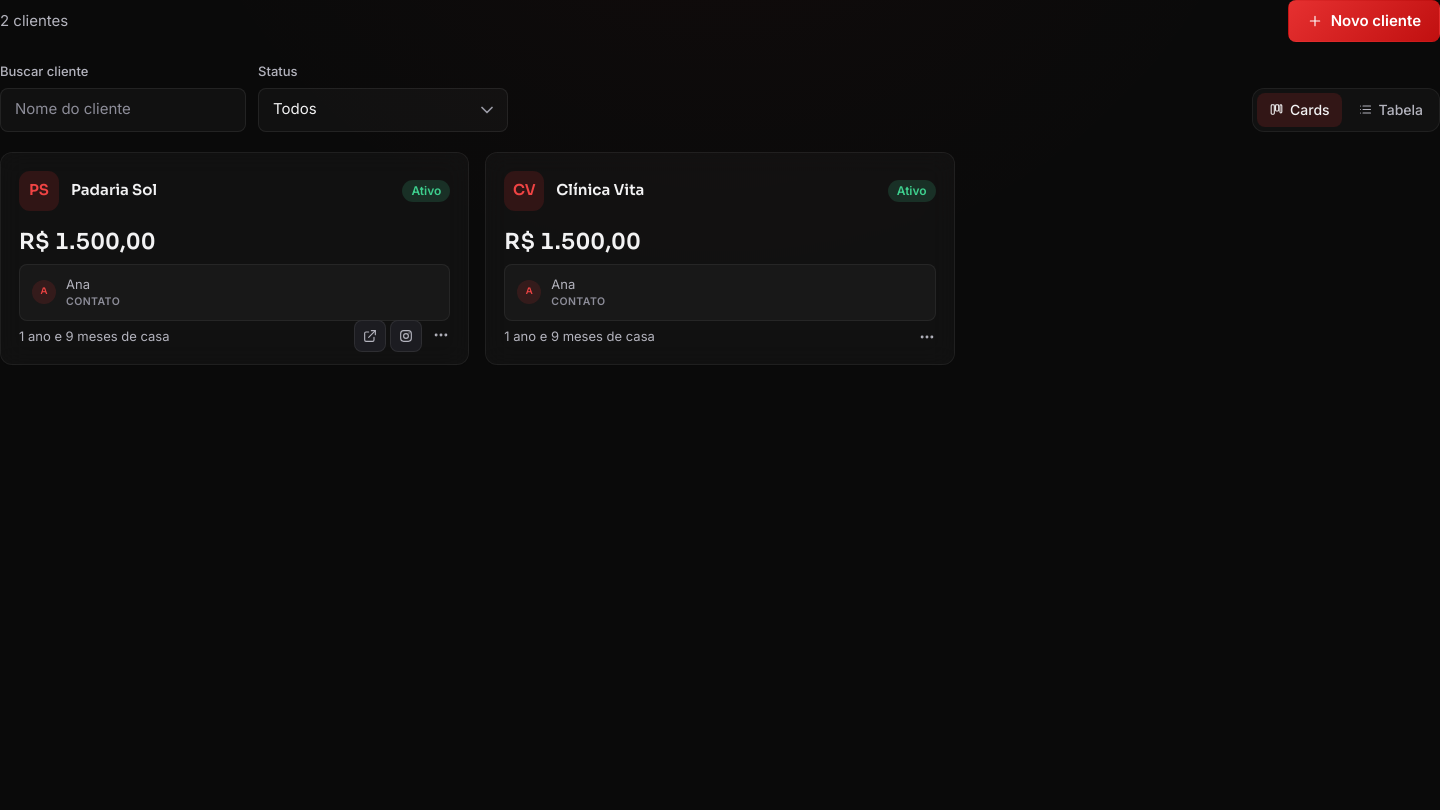
Test: ClientesPage › ações rápidas do card: editar e abrir os canais que o cliente tem
Click the button named "Ações de Padaria Sol". click: (441,335)
box: [426, 320, 456, 350]
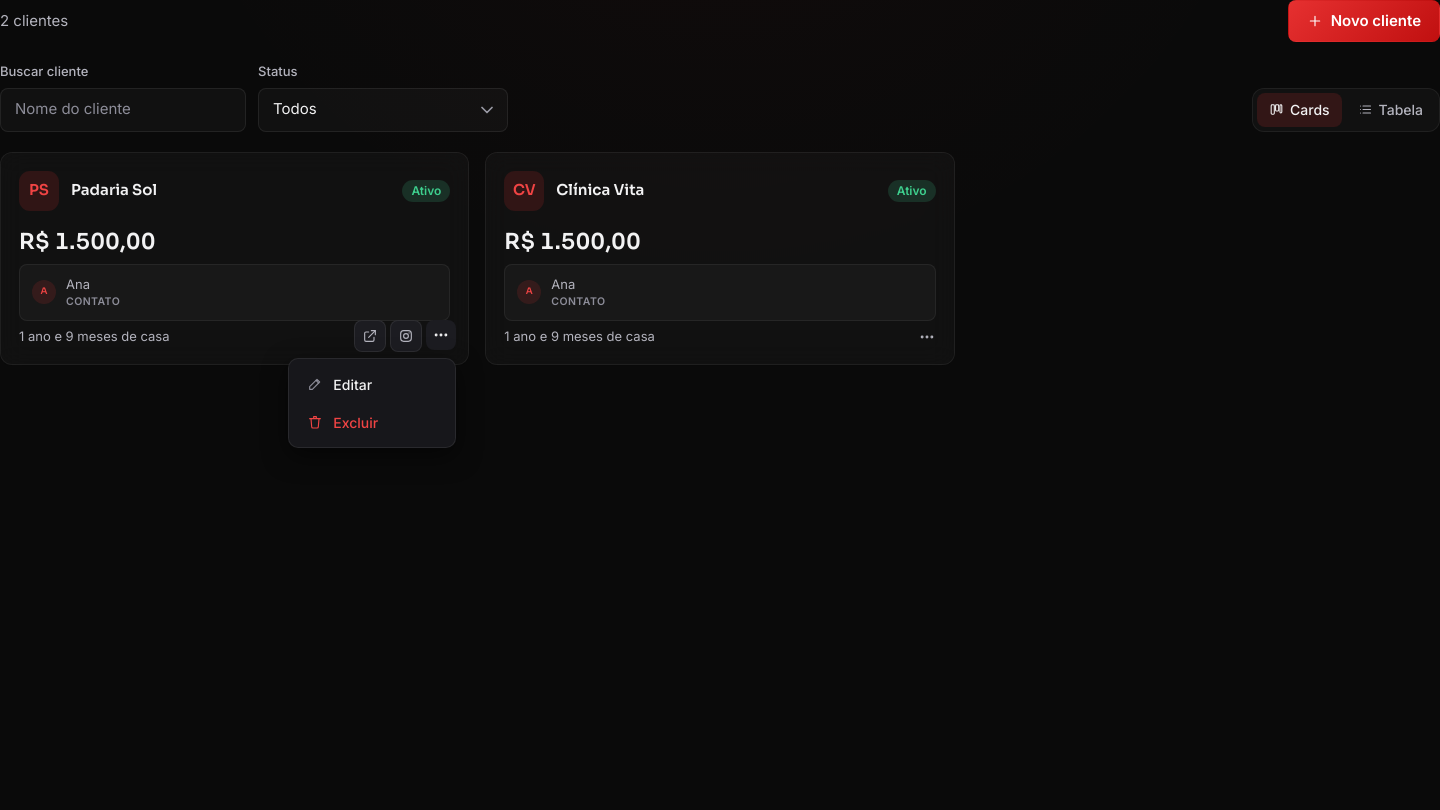
Click the menu item "Editar". click: (372,384)
box: [295, 365, 449, 403]
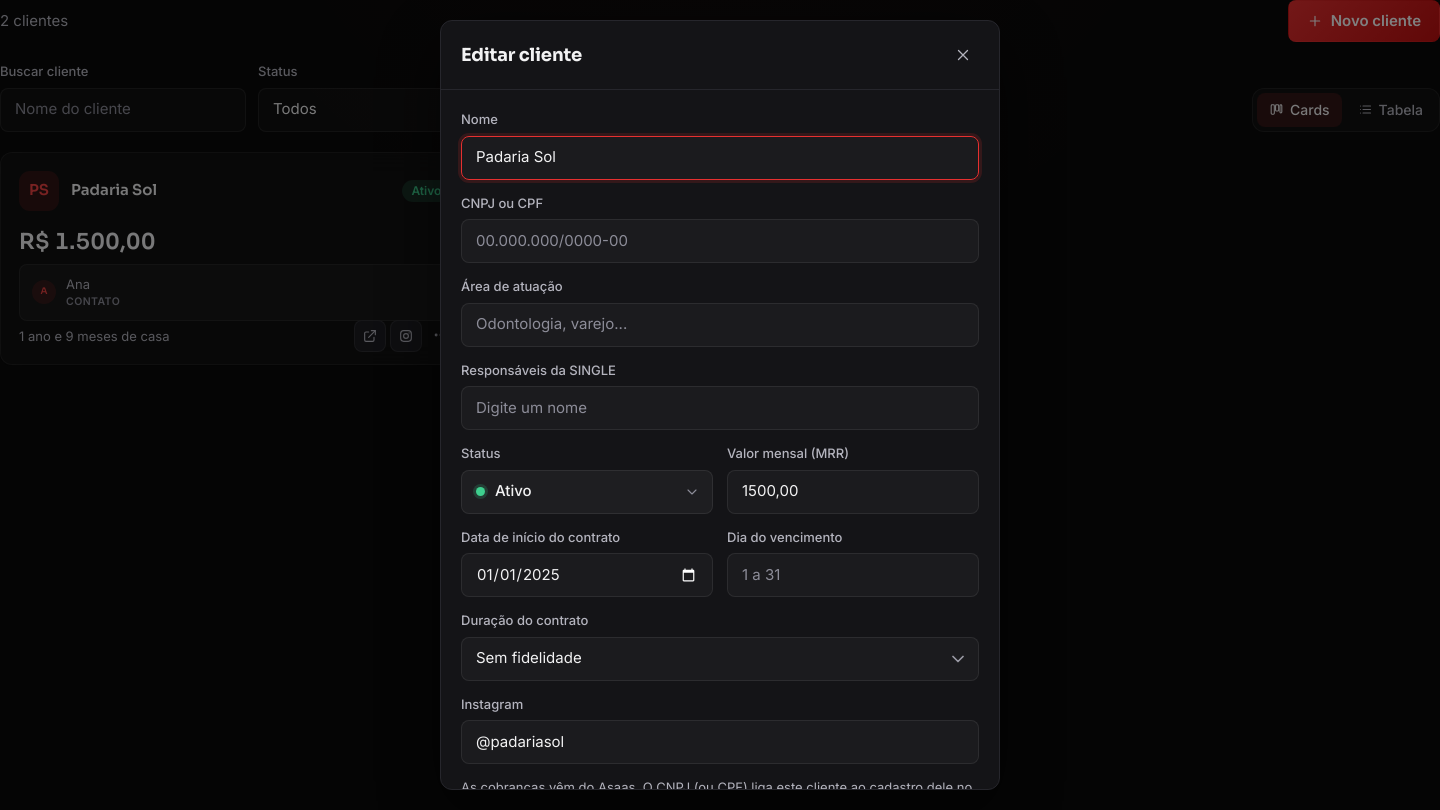
Check: the field labelled "Nome" holds "Padaria Sol", box [461, 136, 979, 180]
